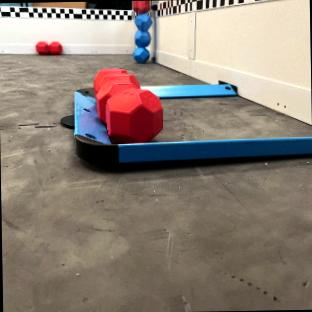Parking - B: (73, 91, 311, 163), (141, 83, 235, 97)
V5_BLUE: (133, 13, 151, 61)
V5_RED: (92, 67, 162, 143), (133, 0, 149, 13), (48, 41, 61, 54), (36, 41, 48, 54)
